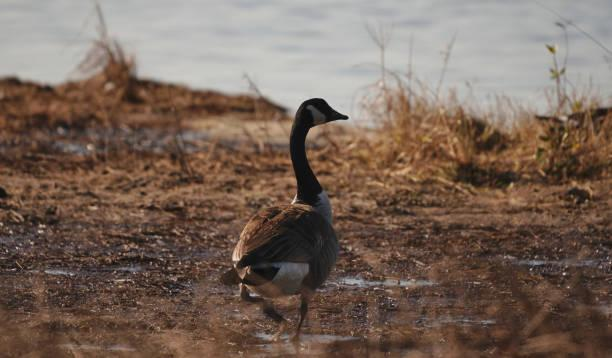Canadian-Goose: (228, 95, 352, 336)
